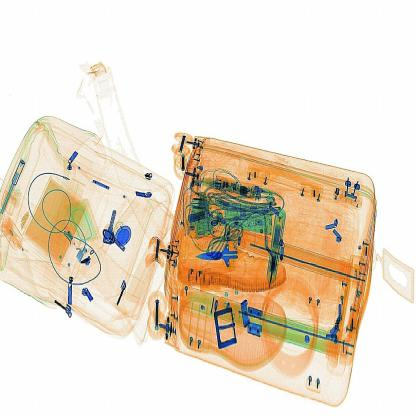gun: (193, 233, 256, 280)
